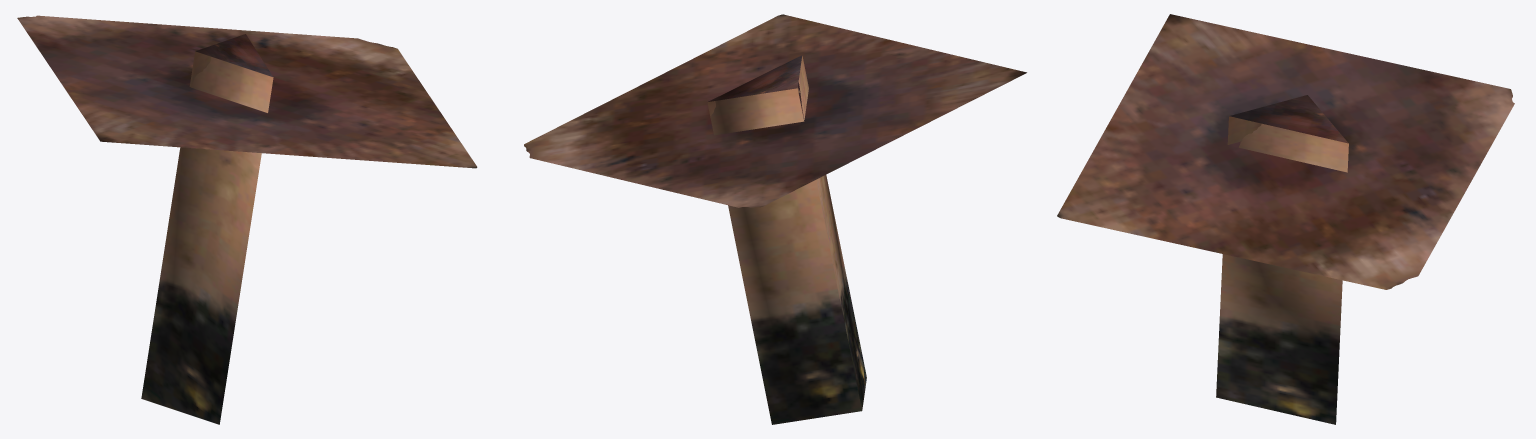
File: fngi_forestmushroom_sm_l1.fbx
The picture shows the model from 3 angles, left to right: view 1: azimuth 30°, elevation 25°; view 2: azimuth 150°, elevation 25°; view 3: azimuth 270°, elevation 25°; orthographic projection. The views are drawn at different scales.
Visible parts, largest first — view 1: mesh_node; view 2: mesh_node; view 3: mesh_node.
Part boxes in pixels (x1,y1,x2,y2): mesh_node: (17,15,477,424); mesh_node: (524,14,1026,424); mesh_node: (1057,14,1514,424).
Bounding box in the file's own units: 0.1149 × 0.0913 × 0.1174.
1 material, 1 textured.
